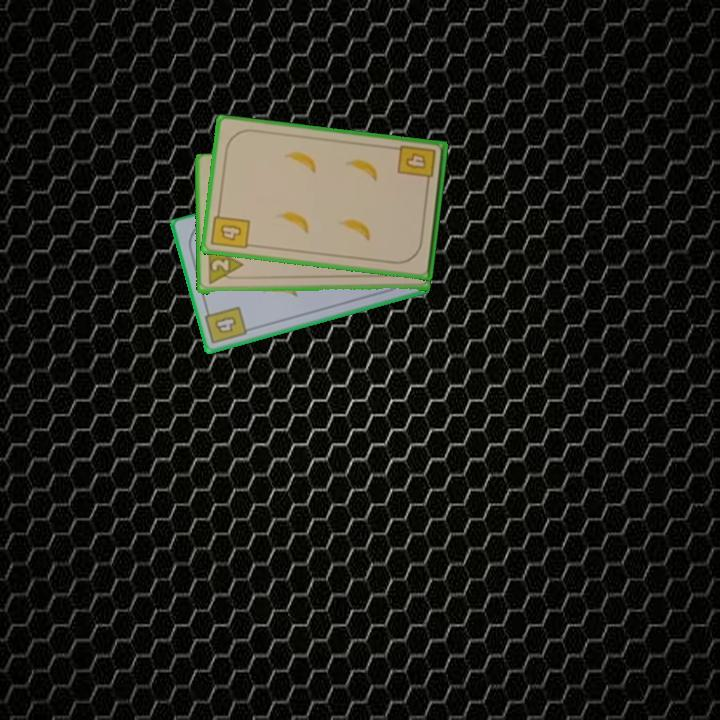2p: (204, 244, 245, 288)
4b: (394, 141, 439, 189), (201, 303, 250, 347), (208, 206, 253, 252)
